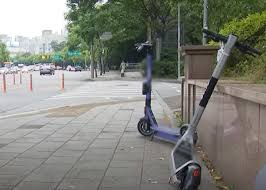guide_blocks: (48, 103, 91, 118)
kick_board: (138, 41, 198, 145)
kick_handler: (203, 29, 262, 57), (135, 41, 153, 55)
kick_neck: (142, 58, 153, 113)
kick_wheel: (137, 118, 156, 137)
